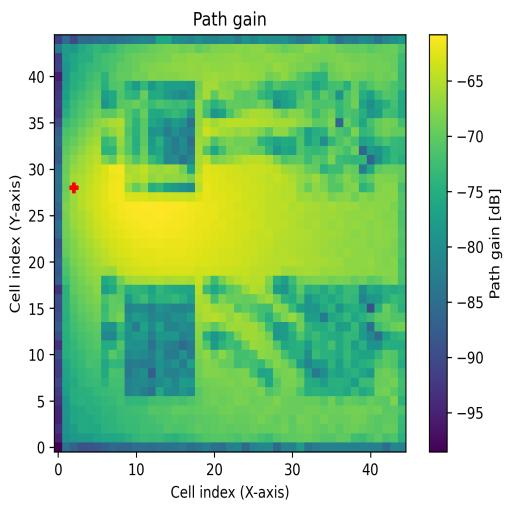Concrete: (297, 75, 384, 201)
Glass: (124, 80, 197, 192)
Metal: (289, 274, 390, 395)
Wood: (124, 283, 195, 398)
